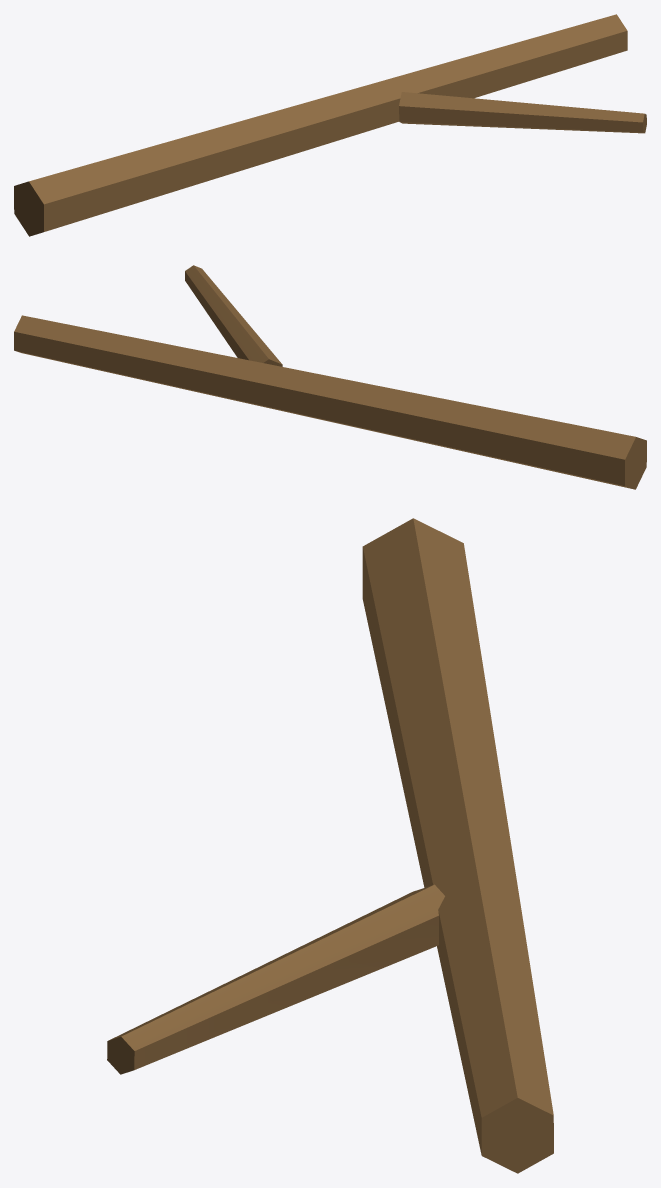
The model's file is Stick.fbx.
3 views of the same model, one above another, from view 1: azimuth 30°, elevation 25°; view 2: azimuth 150°, elevation 25°; view 3: azimuth 270°, elevation 25° (orthographic). The views are drawn at different scales.
Parts seen in each view (by area): view 1: Stick; view 2: Stick; view 3: Stick.
Boxes of the visible parts, x1,y1,x2,y2 form: Stick: [14, 14, 646, 236]; Stick: [14, 265, 646, 489]; Stick: [107, 518, 553, 1173].
Size of the model in its own units: 0.6534 by 0.056 by 0.2138.
